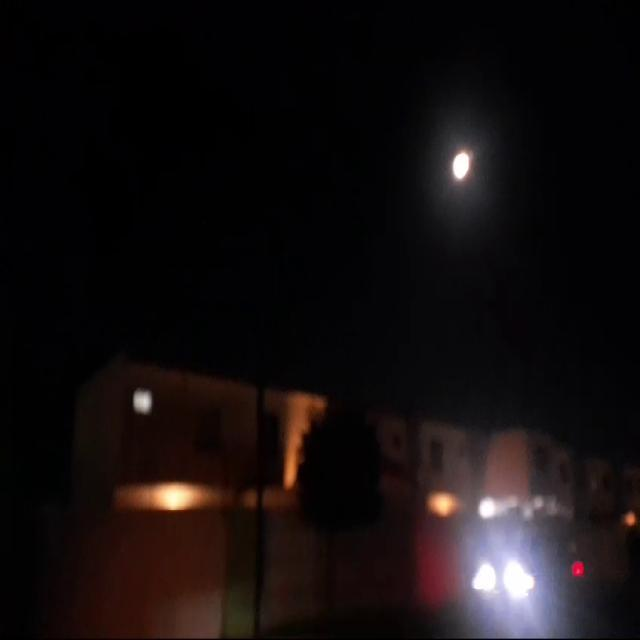moon: (438, 152, 458, 186)
